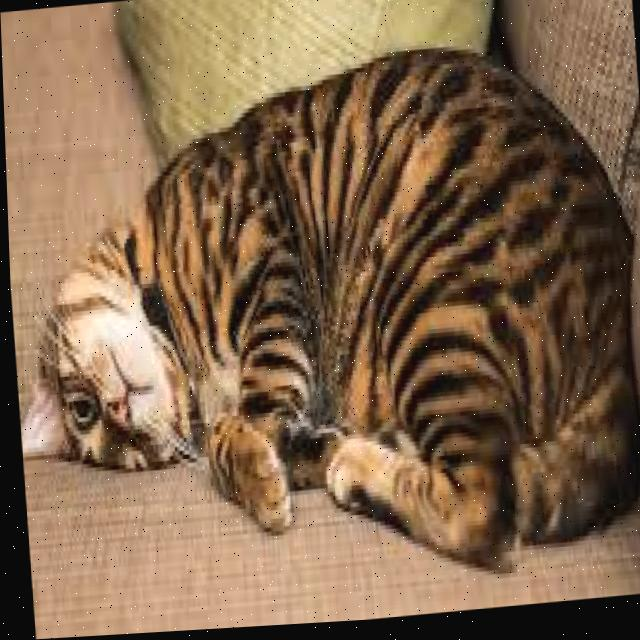Toyger: (2, 22, 640, 604)
